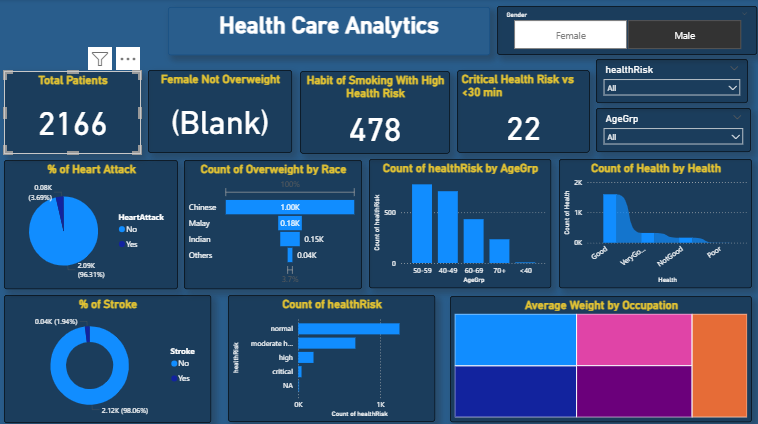

The dashboard page shown, as its layout file describes it:
{"tool":"powerbi","page":{"name":"Page 1","canvas":[1280,720],"ordinal":0},"visuals":[{"type":"card","title":"Total Patients","fields":{"Values":["CountNonNull(Sample_Data.scnZone)"]},"box":[11.8,120.9,230.1,139.4],"z":0},{"type":"pieChart","title":"% of Heart Attack ","fields":{"Category":["Sample_Data.HeartAttack"],"Y":["CountNonNull(Sample_Data.HeartAttack)"]},"box":[11.8,270.4,292.3,216.7],"z":1000},{"type":"donutChart","title":"% of Stroke","fields":{"Category":["Sample_Data.Stroke"],"Y":["CountNonNull(Sample_Data.Stroke)"]},"box":[11.8,497.2,347.7,215],"z":2000},{"type":"card","title":"Female Not Overweight","fields":{"Values":["CountNonNull(Sample_Data.scnZone)"]},"box":[253.6,119.3,241.9,139.4],"z":3000},{"type":"barChart","title":"Count of healthRisk","fields":{"Category":["Sample_Data.healthRisk"],"Y":["CountNonNull(Sample_Data.healthRisk)"]},"box":[388,497.2,347.7,213.3],"z":4000},{"type":"treemap","title":"Average Weight by Occupation","fields":{"Group":["Sample_Data.OccupationType"],"Values":["Avg(Sample_Data.Weight)"]},"box":[760.9,498.9,507.3,211.7],"z":5000},{"type":"funnel","fields":{"Category":["Sample_Data.Race"],"Y":["CountNonNull(Sample_Data.Overweight)"]},"box":[314.1,270.4,299,216.7],"z":6000},{"type":"columnChart","fields":{"Category":["Sample_Data.AgeGrp"],"Y":["CountNonNull(Sample_Data.healthRisk)"]},"box":[624.9,268.8,305.7,216.7],"z":7000},{"type":"card","title":"Habit of Smoking With High Health Risk","fields":{"Values":["CountNonNull(Sample_Data.Smoking)"]},"box":[509,120.9,252,139.4],"z":8000},{"type":"card","title":"Critical Health Risk vs <30 min","fields":{"Values":["CountNonNull(Sample_Data.Exercise)"]},"box":[772.7,119.3,223.4,139.4],"z":9000},{"type":"slicer","fields":{"Values":["Sample_Data.Gender"]},"box":[839.9,11.8,436.7,82.3],"z":10000},{"type":"slicer","fields":{"Values":["Sample_Data.healthRisk"]},"box":[1006.2,100.8,255.3,73.9],"z":11000},{"type":"slicer","fields":{"Values":["Sample_Data.AgeGrp"]},"box":[1006.2,183.1,260.4,73.9],"z":12000},{"type":"ribbonChart","fields":{"Category":["Sample_Data.Health"],"Y":["CountNonNull(Sample_Data.Health)"]},"box":[944,268.8,324.2,216.7],"z":13000},{"type":"textbox","box":[287.2,13.4,540.9,80.6],"z":14000}]}

Visuals, with their boxes in screenshot pixels (x1, y1, x2, y2), scaled from the page's 1280x720 canvas onto the 758x424 screenshot:
"Total Patients" card: bbox(7, 71, 143, 153)
"% of Heart Attack " pieChart: bbox(7, 159, 180, 287)
"% of Stroke" donutChart: bbox(7, 293, 213, 419)
"Female Not Overweight" card: bbox(150, 70, 293, 152)
"Count of healthRisk" barChart: bbox(230, 293, 436, 418)
"Average Weight by Occupation" treemap: bbox(451, 294, 751, 418)
funnel - Sample_Data.Race x CountNonNull(Sample_Data.Overweight): bbox(186, 159, 363, 287)
columnChart - Sample_Data.AgeGrp x CountNonNull(Sample_Data.healthRisk): bbox(370, 158, 551, 286)
"Habit of Smoking With High Health Risk" card: bbox(301, 71, 451, 153)
"Critical Health Risk vs <30 min" card: bbox(458, 70, 590, 152)
slicer - Sample_Data.Gender: bbox(497, 7, 756, 55)
slicer - Sample_Data.healthRisk: bbox(596, 59, 747, 103)
slicer - Sample_Data.AgeGrp: bbox(596, 108, 750, 151)
ribbonChart - Sample_Data.Health x CountNonNull(Sample_Data.Health): bbox(559, 158, 751, 286)
textbox: bbox(170, 8, 490, 55)
